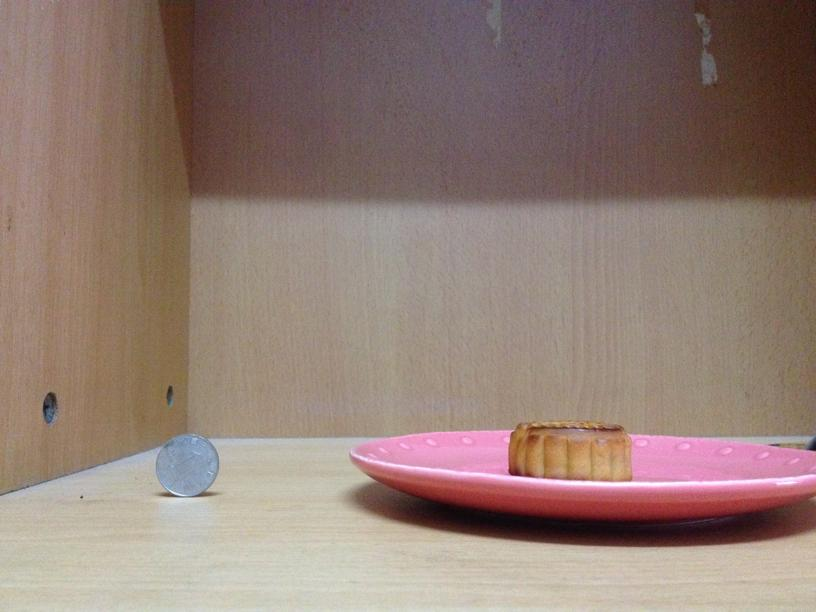coin: (156, 434, 217, 495)
mooncake: (505, 418, 632, 481)
